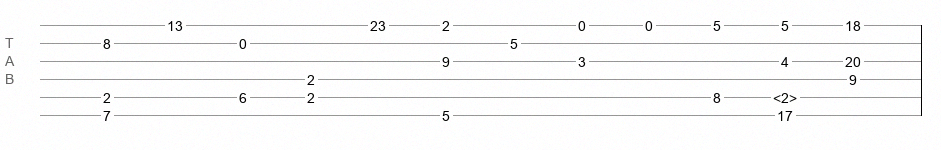0: (239, 36, 247, 46), (578, 18, 586, 28), (645, 18, 653, 28)
13: (167, 18, 183, 28)
17: (777, 108, 793, 118)
18: (845, 18, 861, 28)
2: (103, 90, 111, 100), (307, 72, 315, 82), (307, 90, 315, 100), (442, 18, 450, 28)
20: (845, 54, 861, 64)
23: (370, 18, 386, 28)
3: (578, 54, 586, 64)
4: (781, 54, 789, 64)
5: (442, 108, 450, 118), (510, 36, 518, 46), (713, 18, 721, 28), (781, 18, 789, 28)
6: (239, 90, 247, 100)
7: (103, 108, 111, 118)
8: (103, 36, 111, 46), (713, 90, 721, 100)
9: (442, 54, 450, 64), (849, 72, 857, 82)
harmonic: (773, 90, 797, 100)
